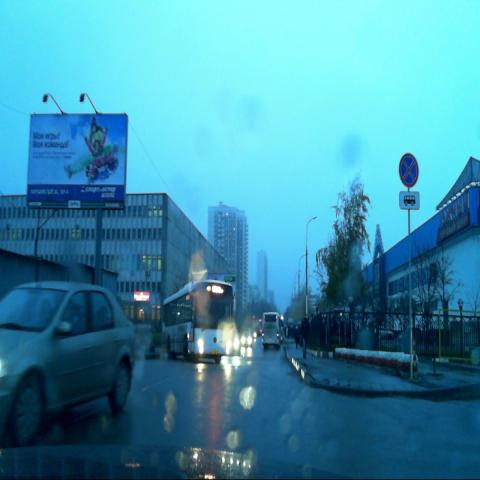8_4_4: (400, 192, 420, 208)
